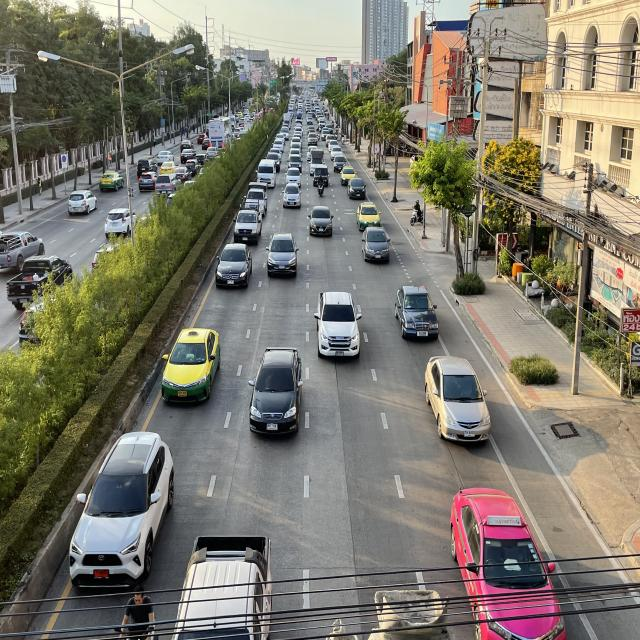bike: (317, 174, 324, 198)
car: (446, 481, 571, 640), (66, 432, 176, 589), (167, 529, 278, 640), (424, 351, 492, 451), (246, 342, 306, 444), (158, 322, 221, 409), (314, 290, 364, 362), (394, 282, 441, 342), (214, 242, 254, 289), (266, 230, 299, 278), (360, 227, 391, 264), (307, 204, 334, 237), (356, 200, 381, 233), (282, 182, 302, 208), (347, 177, 367, 201)
truck: (232, 202, 263, 245), (243, 182, 268, 218)
